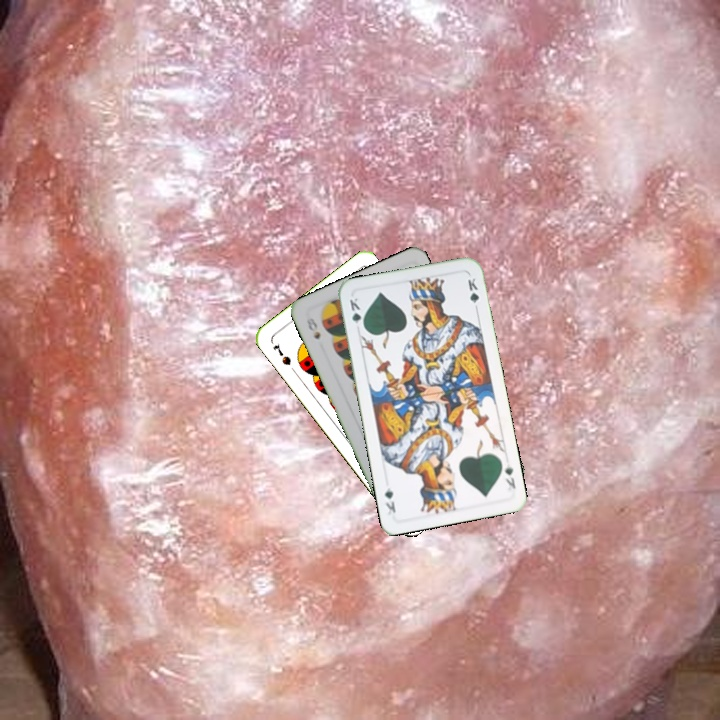GK: (345, 294, 367, 332), (501, 460, 518, 493)
S7: (269, 339, 294, 368)
S8: (302, 313, 323, 342)
